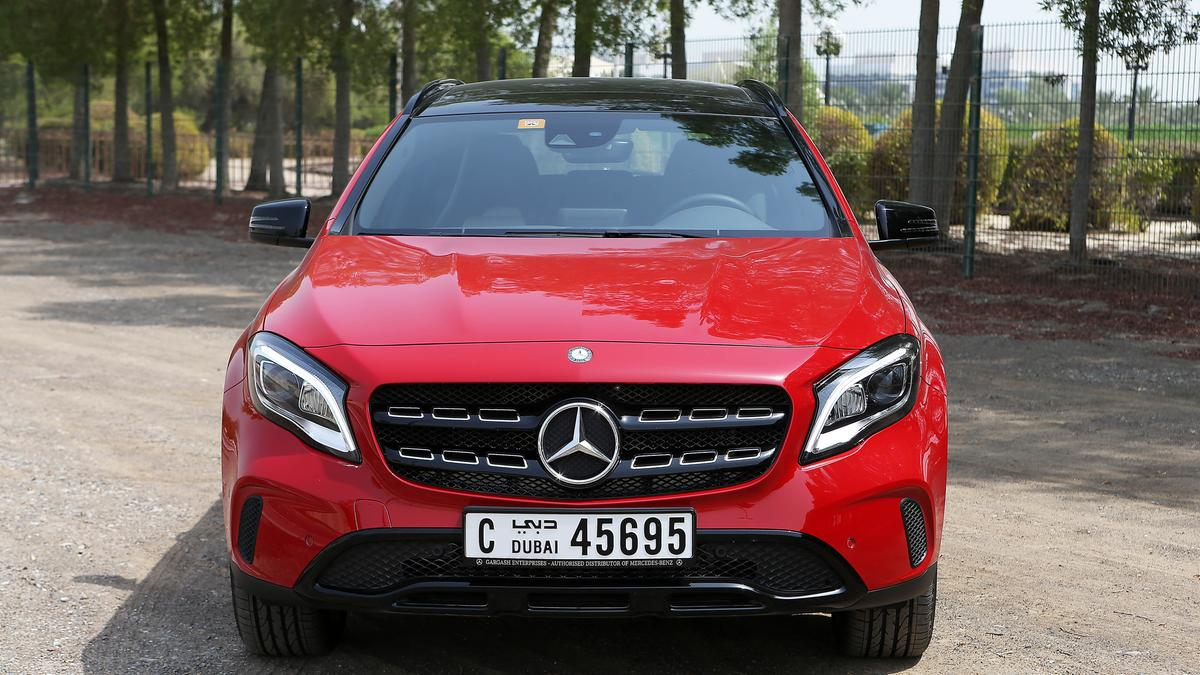gla: (209, 55, 965, 675)
